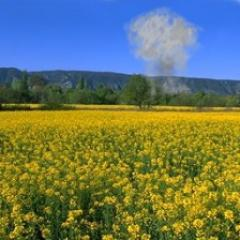smoke: (122, 5, 207, 104)
